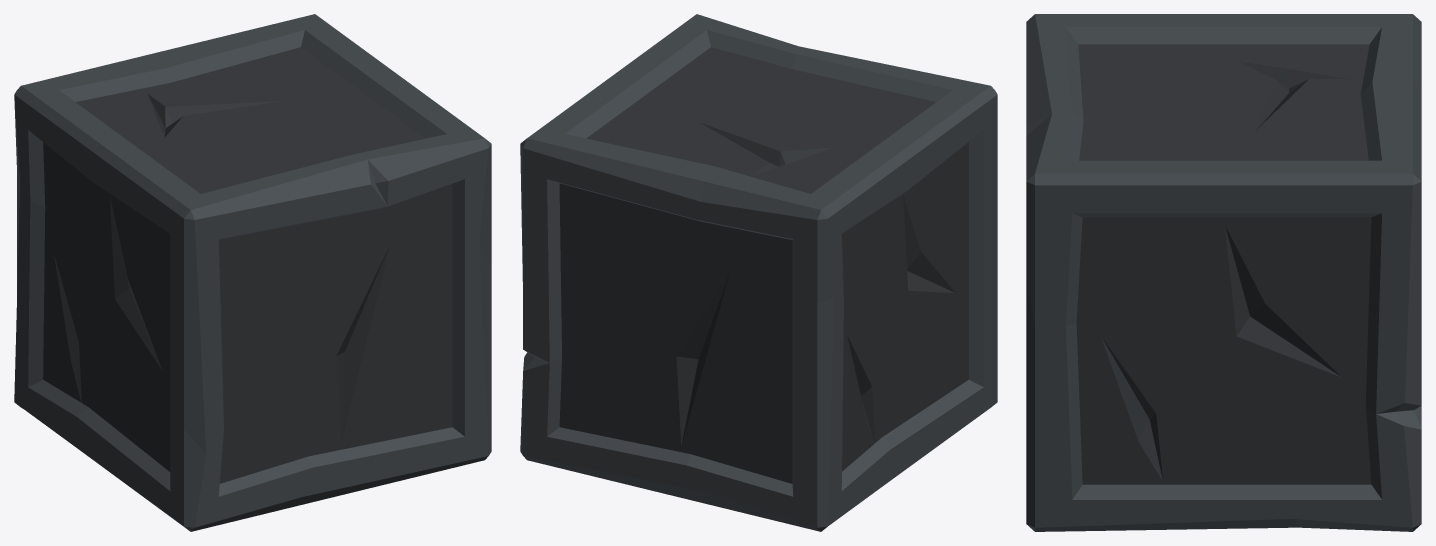
The model's file is SM_Prop_Crate_Metal_02.glb.
3 renders of one model, left to right at view 1: azimuth 30°, elevation 25°; view 2: azimuth 150°, elevation 25°; view 3: azimuth 270°, elevation 25°, orthographic. The views are drawn at different scales.
Parts seen in each view (by area): view 1: SM_Prop_Crate_Metal_02; view 2: SM_Prop_Crate_Metal_02; view 3: SM_Prop_Crate_Metal_02.
Part boxes in pixels (<box>): SM_Prop_Crate_Metal_02: <box>14,14,491,531</box>; SM_Prop_Crate_Metal_02: <box>520,14,997,531</box>; SM_Prop_Crate_Metal_02: <box>1026,14,1421,531</box>.
Size of the model in its own units: 0.0107 by 0.0107 by 0.0107.
Materials: 1 (1 with a texture image).
